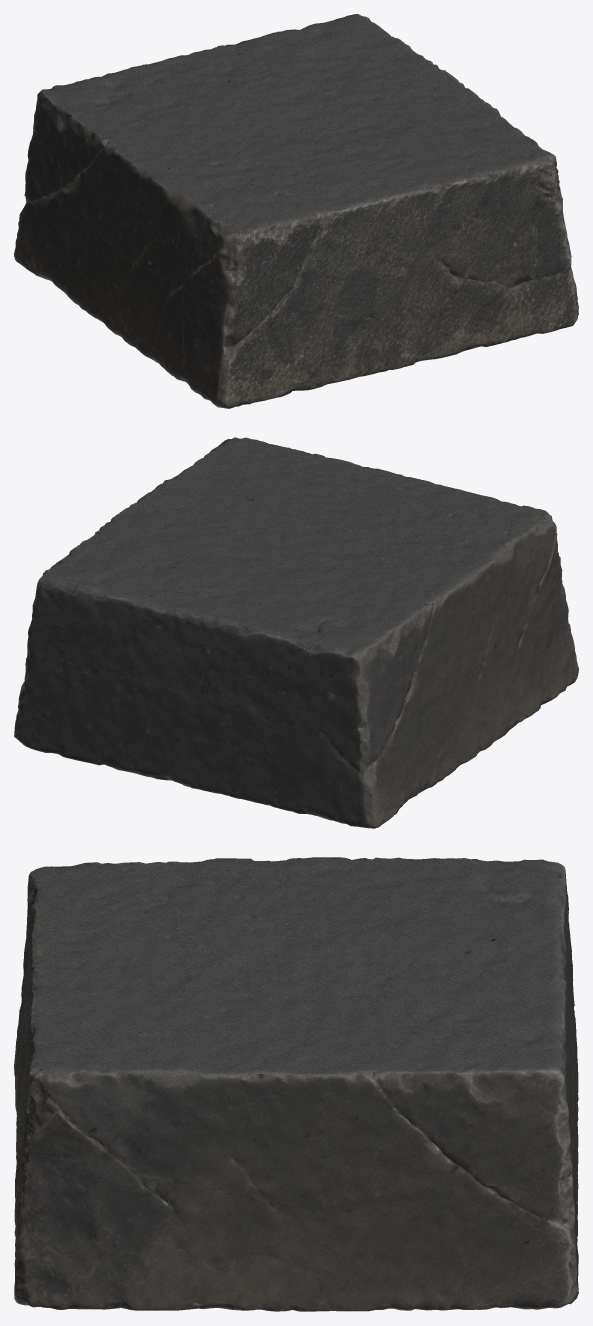
Rendered from cleaned.glb.
3 renders of one model, top to bottom at view 1: azimuth 30°, elevation 25°; view 2: azimuth 150°, elevation 25°; view 3: azimuth 270°, elevation 25°, orthographic. The views are drawn at different scales.
Visible parts, largest first — view 1: M7 stone-a-m7; view 2: M7 stone-a-m7; view 3: M7 stone-a-m7.
Boxes of the visible parts, x1=… form: M7 stone-a-m7: x1=14, y1=14, x2=578, y2=408; M7 stone-a-m7: x1=14, y1=437, x2=578, y2=828; M7 stone-a-m7: x1=14, y1=857, x2=578, y2=1311.
Size of the model in its own units: 2.21 by 1 by 2.21.
Materials: 1 (1 with a texture image).
